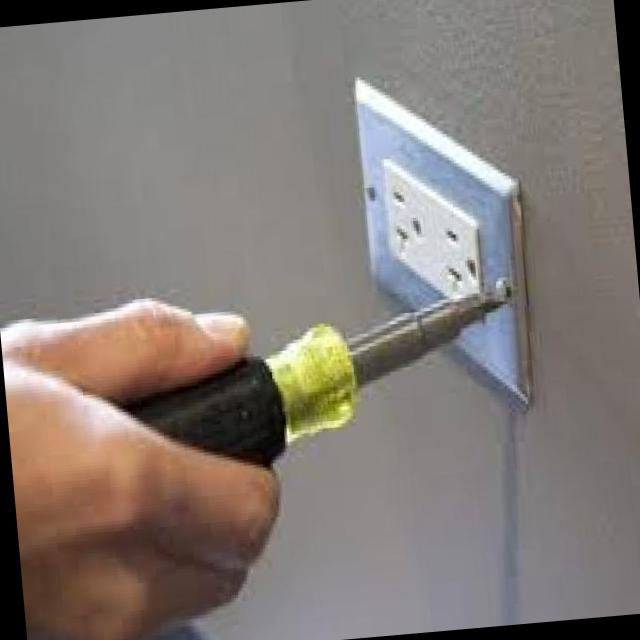screwdriver: (120, 295, 494, 465)
